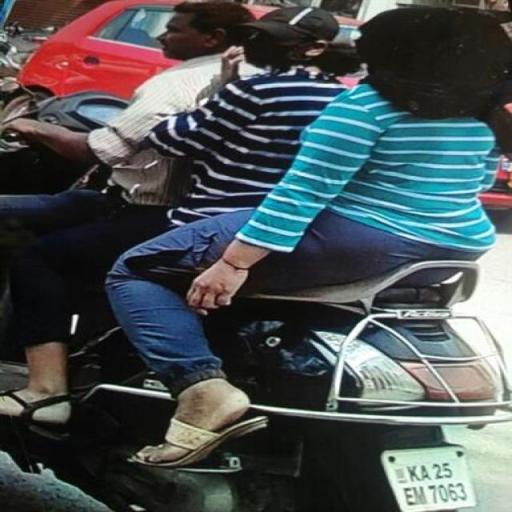tripple riding: (4, 1, 512, 353)
